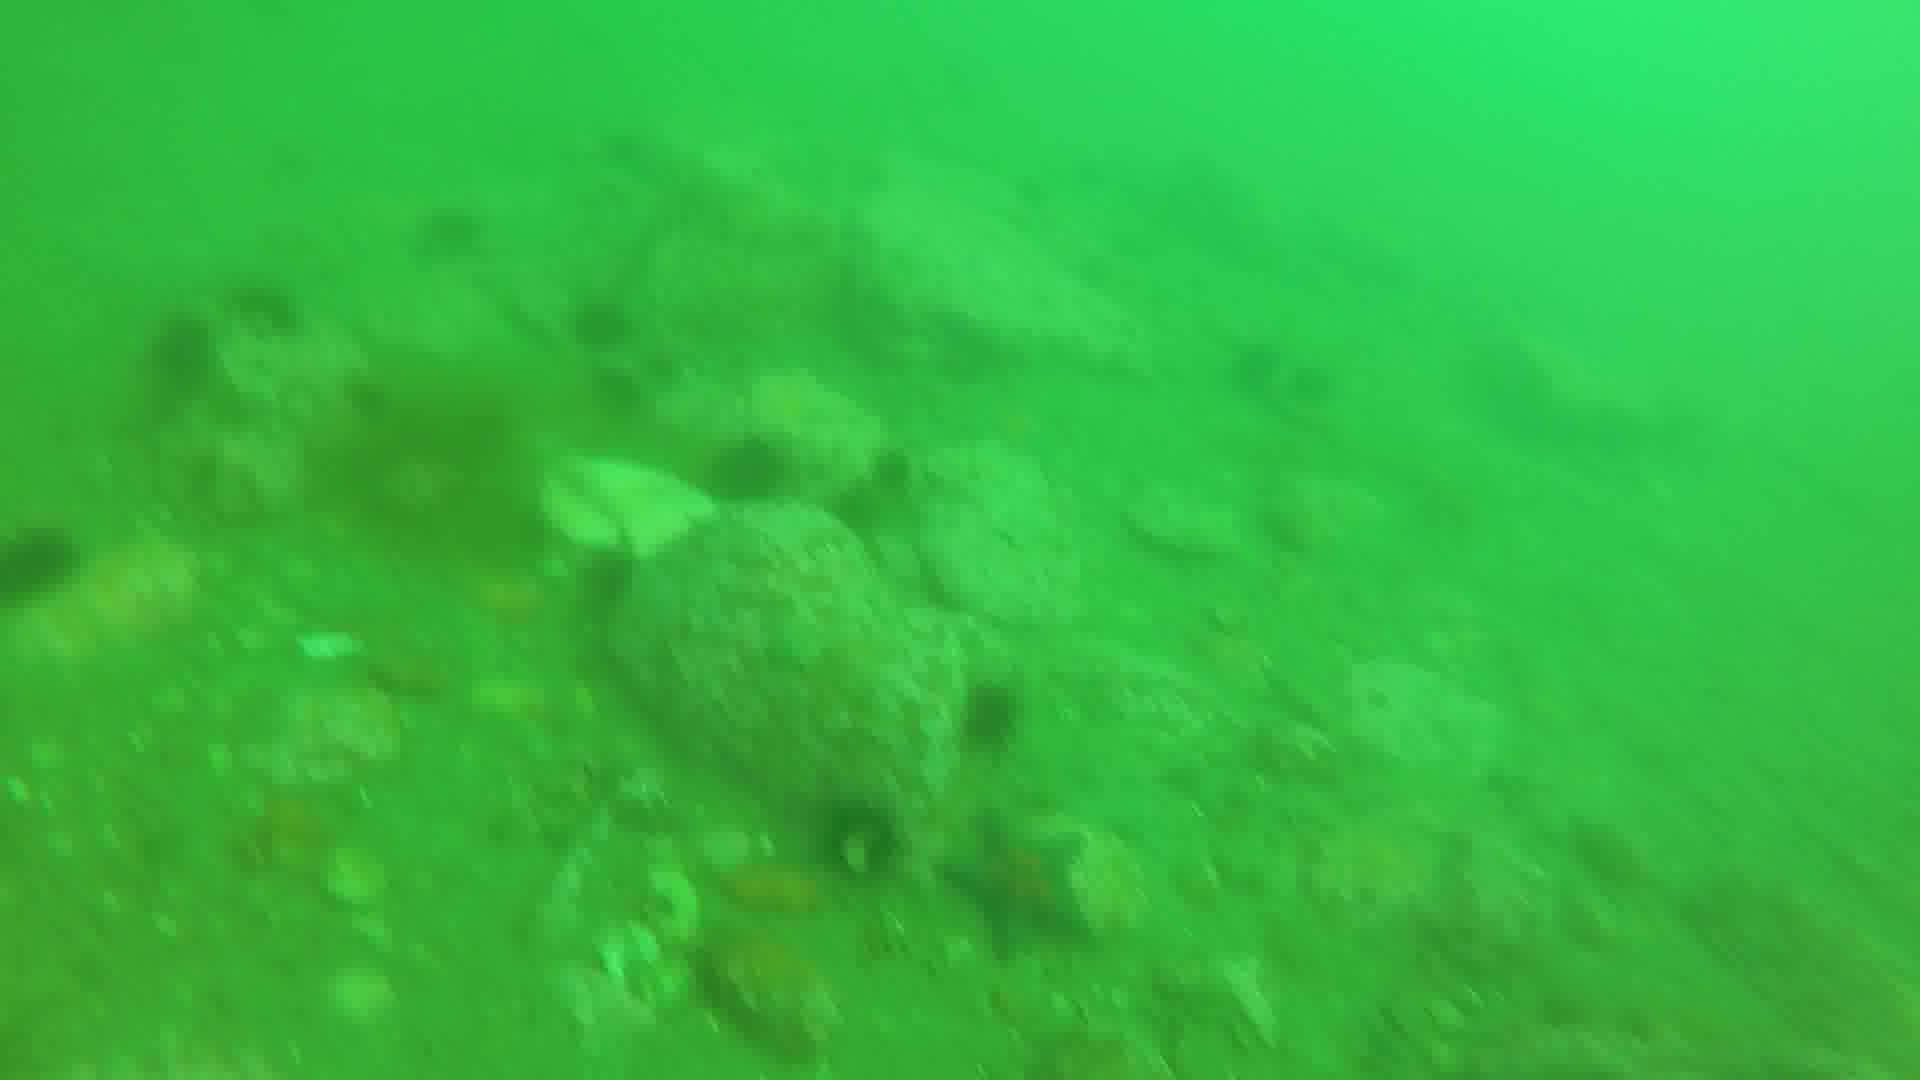echinus: (144, 313, 212, 407), (1, 534, 91, 607), (723, 433, 798, 512), (835, 804, 899, 887), (244, 276, 305, 351), (960, 671, 1019, 746), (578, 291, 640, 363)
starfish: (939, 807, 1095, 967)
